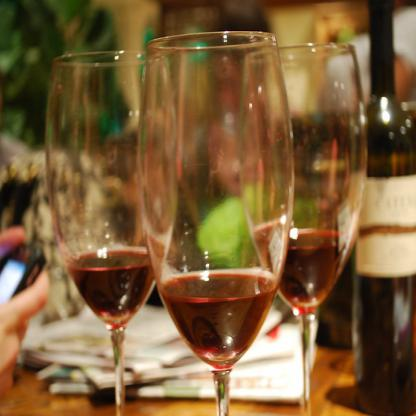drinking: (138, 30, 294, 416), (46, 51, 179, 415), (239, 43, 367, 416)
